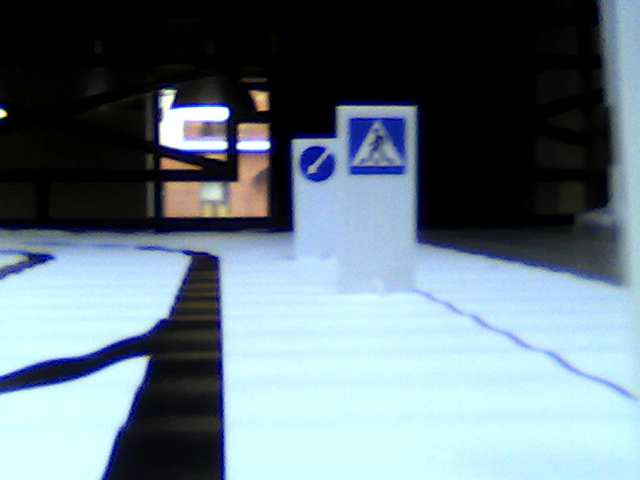pesh: (347, 116, 409, 176)
prep: (296, 142, 337, 184)
